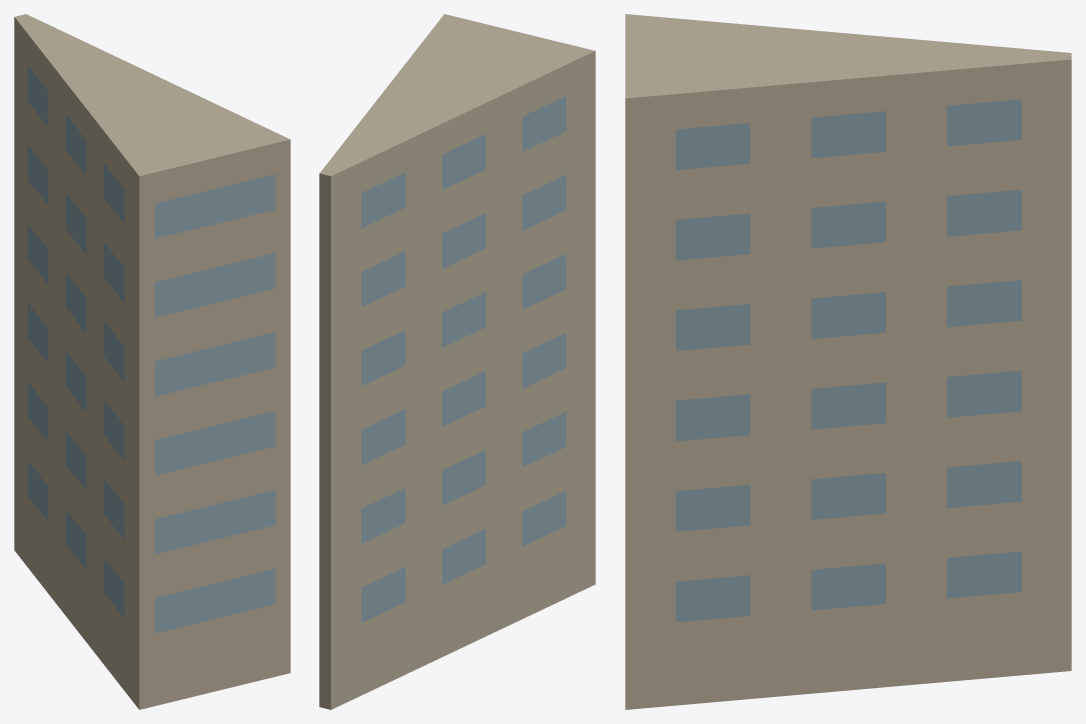
The picture shows the model from 3 angles, left to right: view 1: azimuth 30°, elevation 25°; view 2: azimuth 150°, elevation 25°; view 3: azimuth 270°, elevation 25°; orthographic projection. The views are drawn at different scales.
Visible parts, largest first — view 1: wedge-building-lod3; view 2: wedge-building-lod3; view 3: wedge-building-lod3.
Part boxes in pixels (x1,y1,x2,y2): wedge-building-lod3: [14, 14, 290, 709]; wedge-building-lod3: [319, 14, 595, 709]; wedge-building-lod3: [625, 14, 1071, 709].
Size of the model in its own units: 31.19 by 105 by 69.75.
